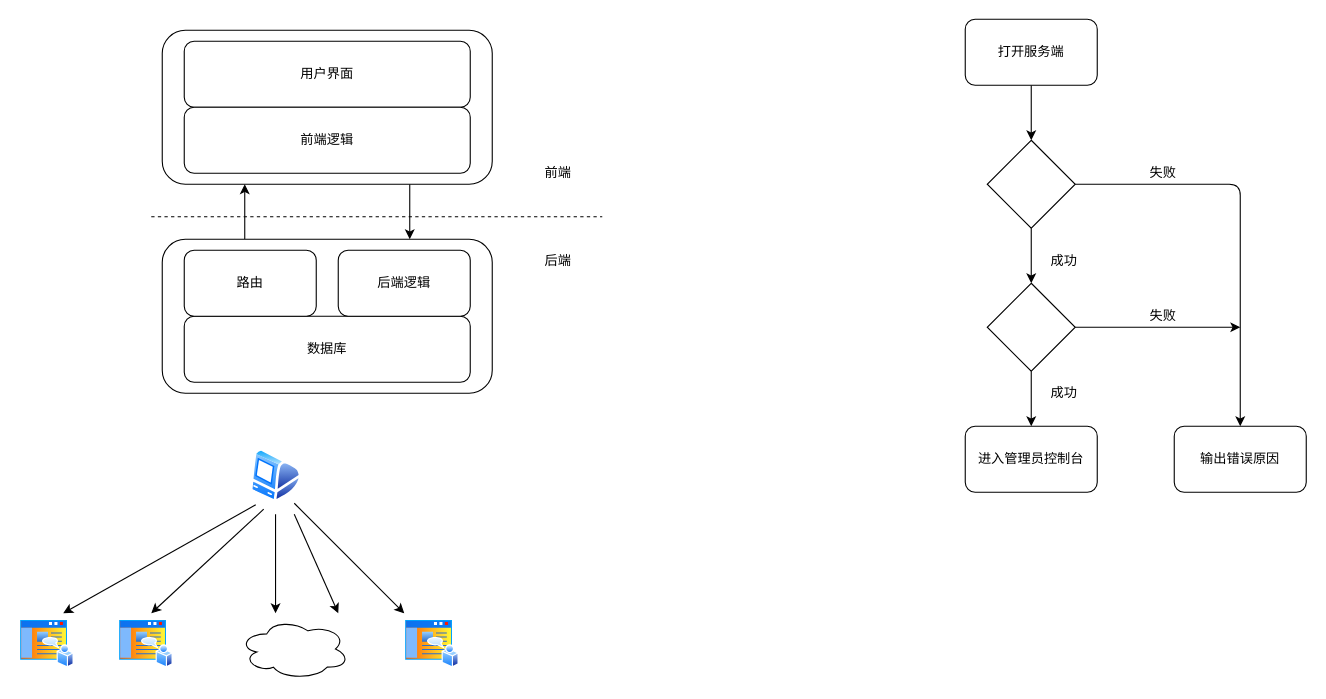
Image size: 1326x699. Some labels were removed from this diagram. Here are the shapes that lost their labels. From the top down, the centre of each, then its label:
At [1030,183]: "启动web进程".
At [1030,326]: "启动webscoket进程".
